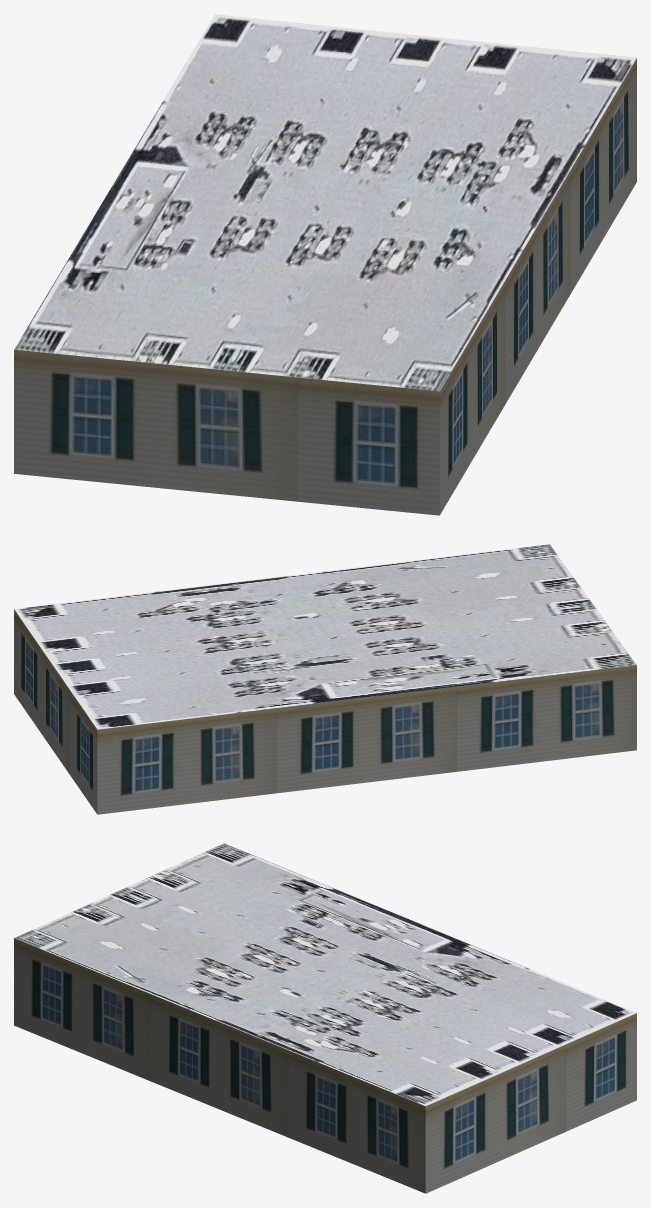
Rendered from ResTex__1782.fbx.
3 renders of one model, top to bottom at view 1: azimuth 30°, elevation 25°; view 2: azimuth 150°, elevation 25°; view 3: azimuth 270°, elevation 25°, orthographic. The views are drawn at different scales.
Parts seen in each view (by area): view 1: CityEngineMaterial_8_m, CityEngineMaterial_7_m; view 2: CityEngineMaterial_8_m, CityEngineMaterial_7_m; view 3: CityEngineMaterial_8_m, CityEngineMaterial_7_m.
Part boxes in pixels (x1,y1,x2,y2): CityEngineMaterial_8_m: (14, 14, 636, 391); CityEngineMaterial_7_m: (14, 58, 636, 515); CityEngineMaterial_8_m: (14, 544, 636, 729); CityEngineMaterial_7_m: (14, 609, 636, 814); CityEngineMaterial_8_m: (14, 843, 636, 1106); CityEngineMaterial_7_m: (14, 938, 636, 1193).
Bounding box in the file's own units: 19.37 × 3 × 19.38.
Materials: 2 (2 with a texture image).
